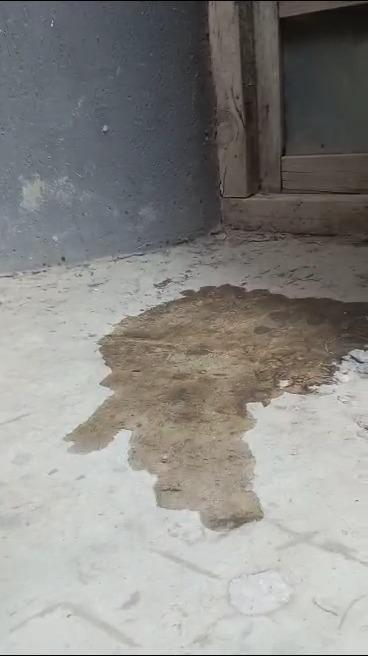water accumulation: (64, 284, 368, 532)
